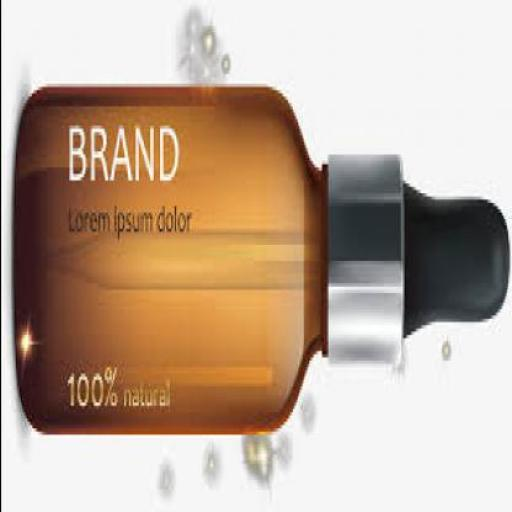glass: (12, 87, 328, 431), (37, 222, 322, 296)
metal: (326, 145, 403, 361)
plastic: (400, 174, 511, 340)
